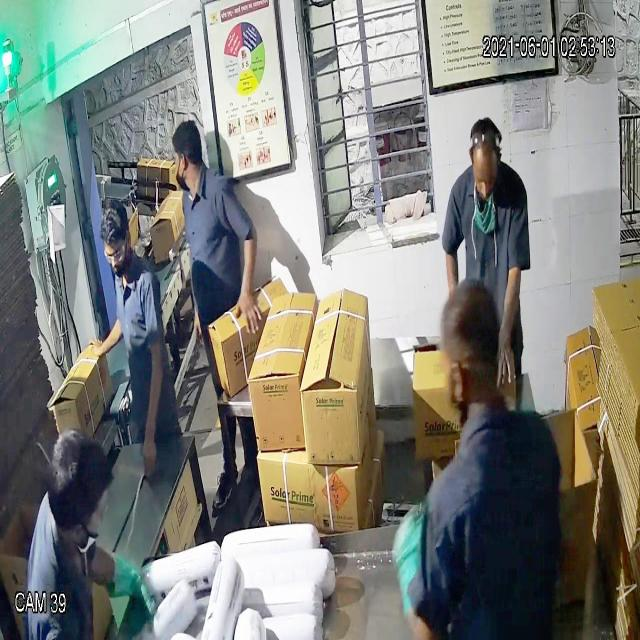glasses: (97, 236, 135, 271)
